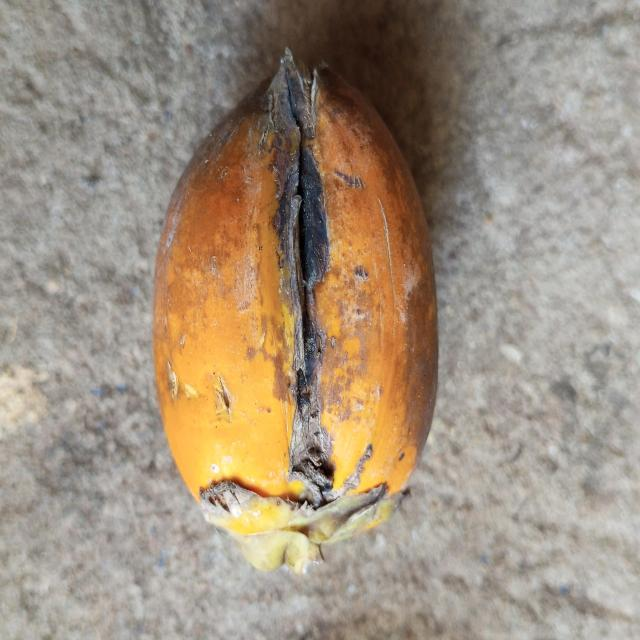damaged: (151, 53, 440, 573)
